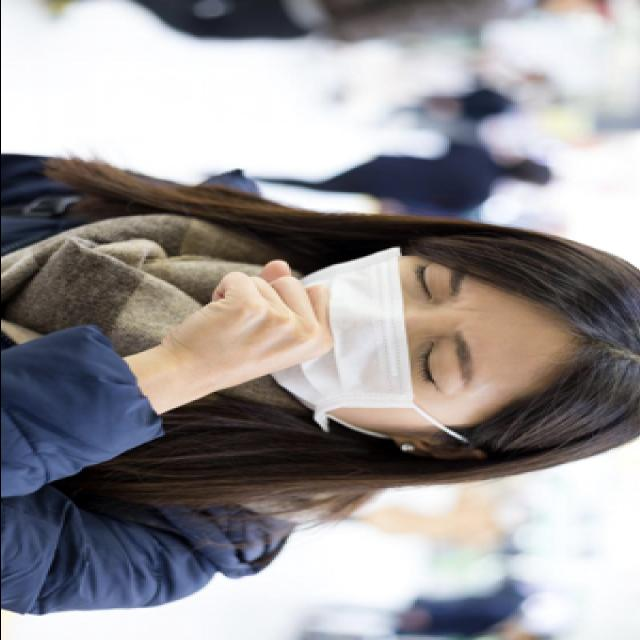mask: (266, 248, 482, 430)
